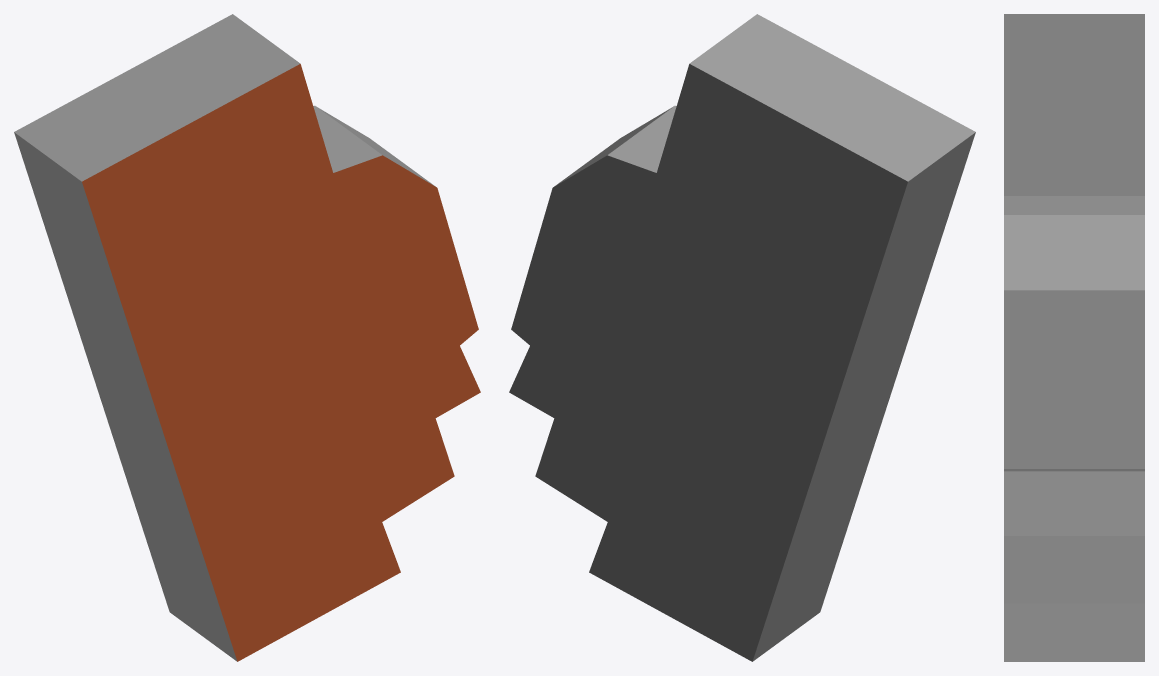
The model's file is construction_3968_assumed_A_Casa_h6m.obj.
3 views of the same model, side by side, from view 1: azimuth 30°, elevation 25°; view 2: azimuth 150°, elevation 25°; view 3: azimuth 270°, elevation 25° (orthographic). The views are drawn at different scales.
Visible parts, largest first — view 1: construction_3968_assumed_A_Casa; view 2: construction_3968_assumed_A_Casa; view 3: construction_3968_assumed_A_Casa.
Part boxes in pixels (x1=…): construction_3968_assumed_A_Casa: x1=14, y1=14, x2=480, y2=661; construction_3968_assumed_A_Casa: x1=509, y1=14, x2=975, y2=661; construction_3968_assumed_A_Casa: x1=1004, y1=14, x2=1144, y2=661.
Size of the model in its own units: 20.37 by 28.43 by 6.
